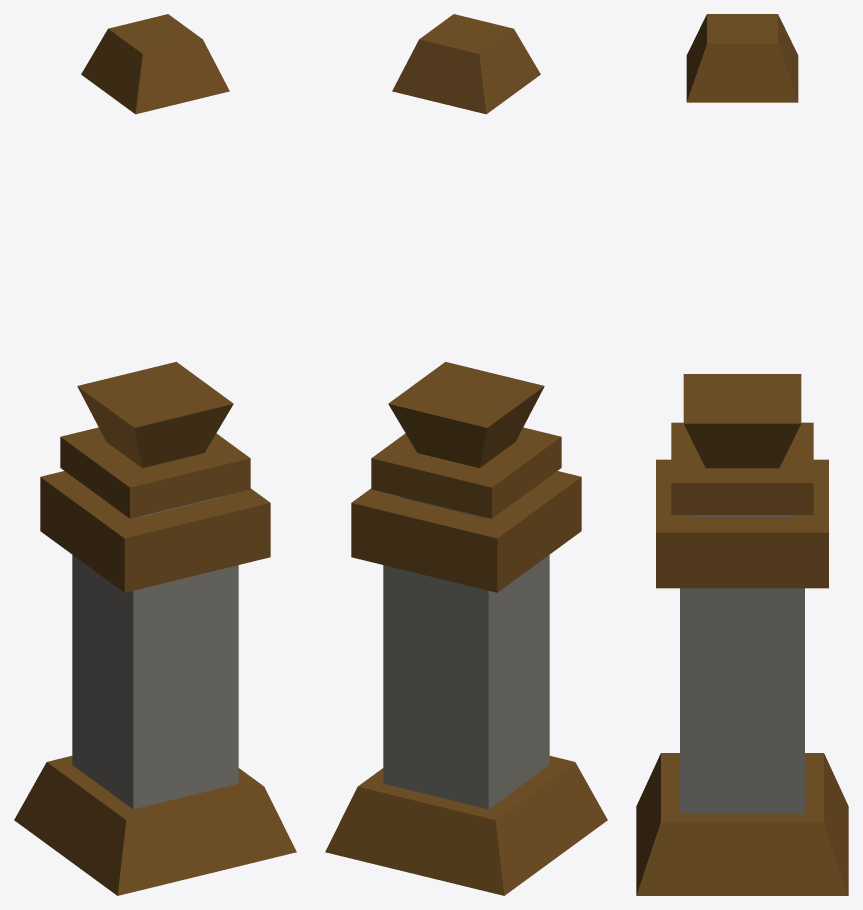
The model's file is lens4WayStand.fbx.
The picture shows the model from 3 angles, left to right: view 1: azimuth 30°, elevation 25°; view 2: azimuth 150°, elevation 25°; view 3: azimuth 270°, elevation 25°; orthographic projection. The views are drawn at different scales.
Parts seen in each view (by area): view 1: Lens 4 Way Stand; view 2: Lens 4 Way Stand; view 3: Lens 4 Way Stand.
Boxes of the visible parts, x1,y1,x2,y2 form: Lens 4 Way Stand: (14, 14, 296, 895); Lens 4 Way Stand: (325, 14, 607, 895); Lens 4 Way Stand: (636, 14, 848, 895).
Bounding box in the file's own units: 22.73 × 22.73 × 97.16.
